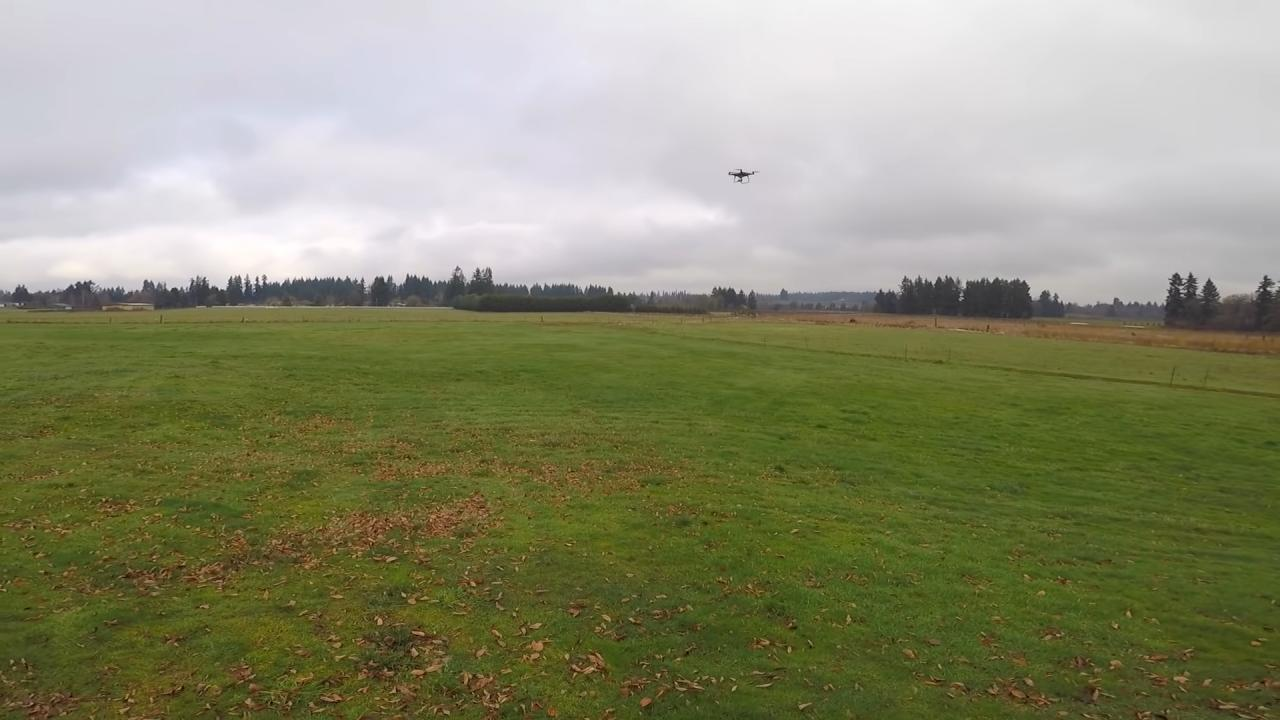Drone: (718, 158, 762, 193)
